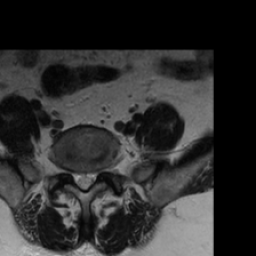CCS_normal: (80, 163, 87, 199)
LFS_stenosis: (96, 159, 106, 183)
LLS_normal: (87, 163, 96, 191)
RFS_severe_stenosis: (64, 158, 72, 183)
RLS_normal: (72, 163, 80, 192)
